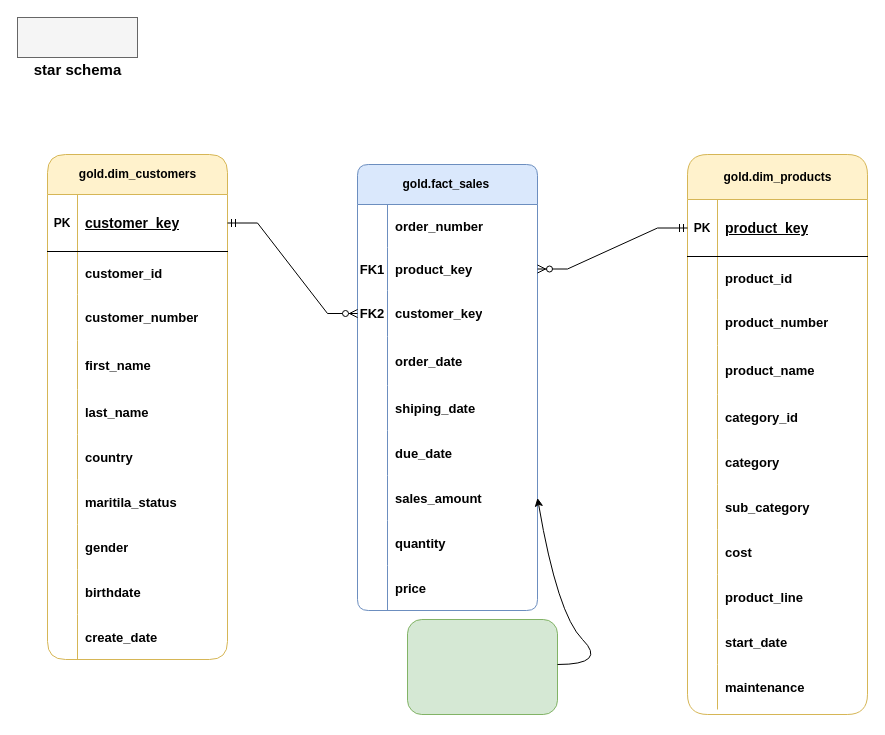
The diagram is 885 pixels wide and 735 high, and some of its shapes have lost their labels. The centre of each missing label's shape, as x and y in pixels:
"data mart" belongs at point (77, 37).
"SALES CALCULATION Sales = qunatity*price" belongs at point (482, 666).
